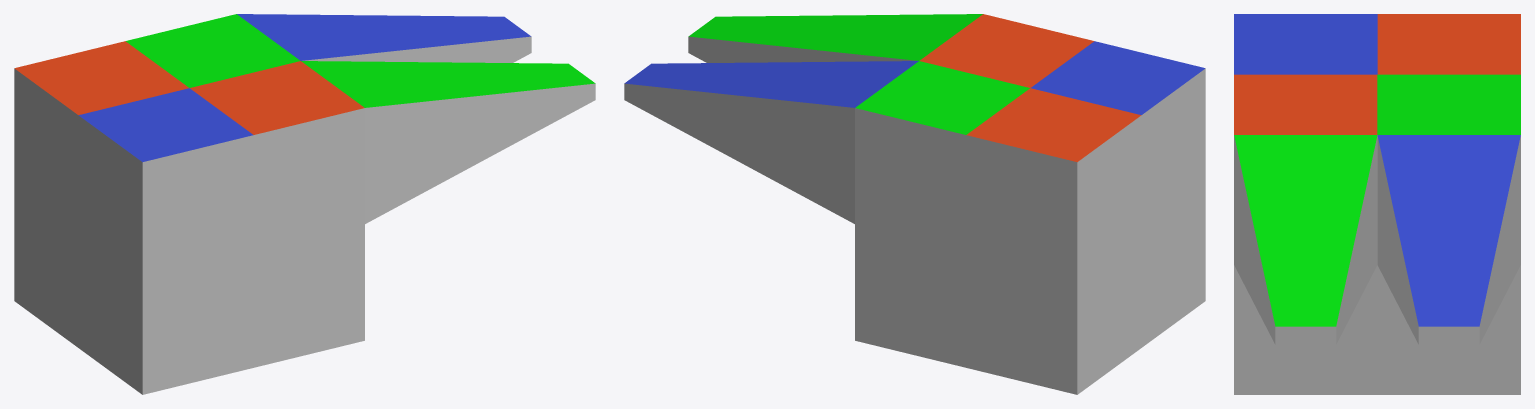
File: 锤子带颜色.glb
3 views of the same model, side by side, from view 1: azimuth 30°, elevation 25°; view 2: azimuth 150°, elevation 25°; view 3: azimuth 270°, elevation 25° (orthographic). The views are drawn at different scales.
Visible parts, largest first — view 1: Cube; view 2: Cube; view 3: Cube.
Part boxes in pixels (<box>): Cube: <box>14,14,595,394</box>; Cube: <box>624,14,1205,394</box>; Cube: <box>1234,14,1520,394</box>.
Bounding box in the file's own units: 4.24 × 2 × 2.
